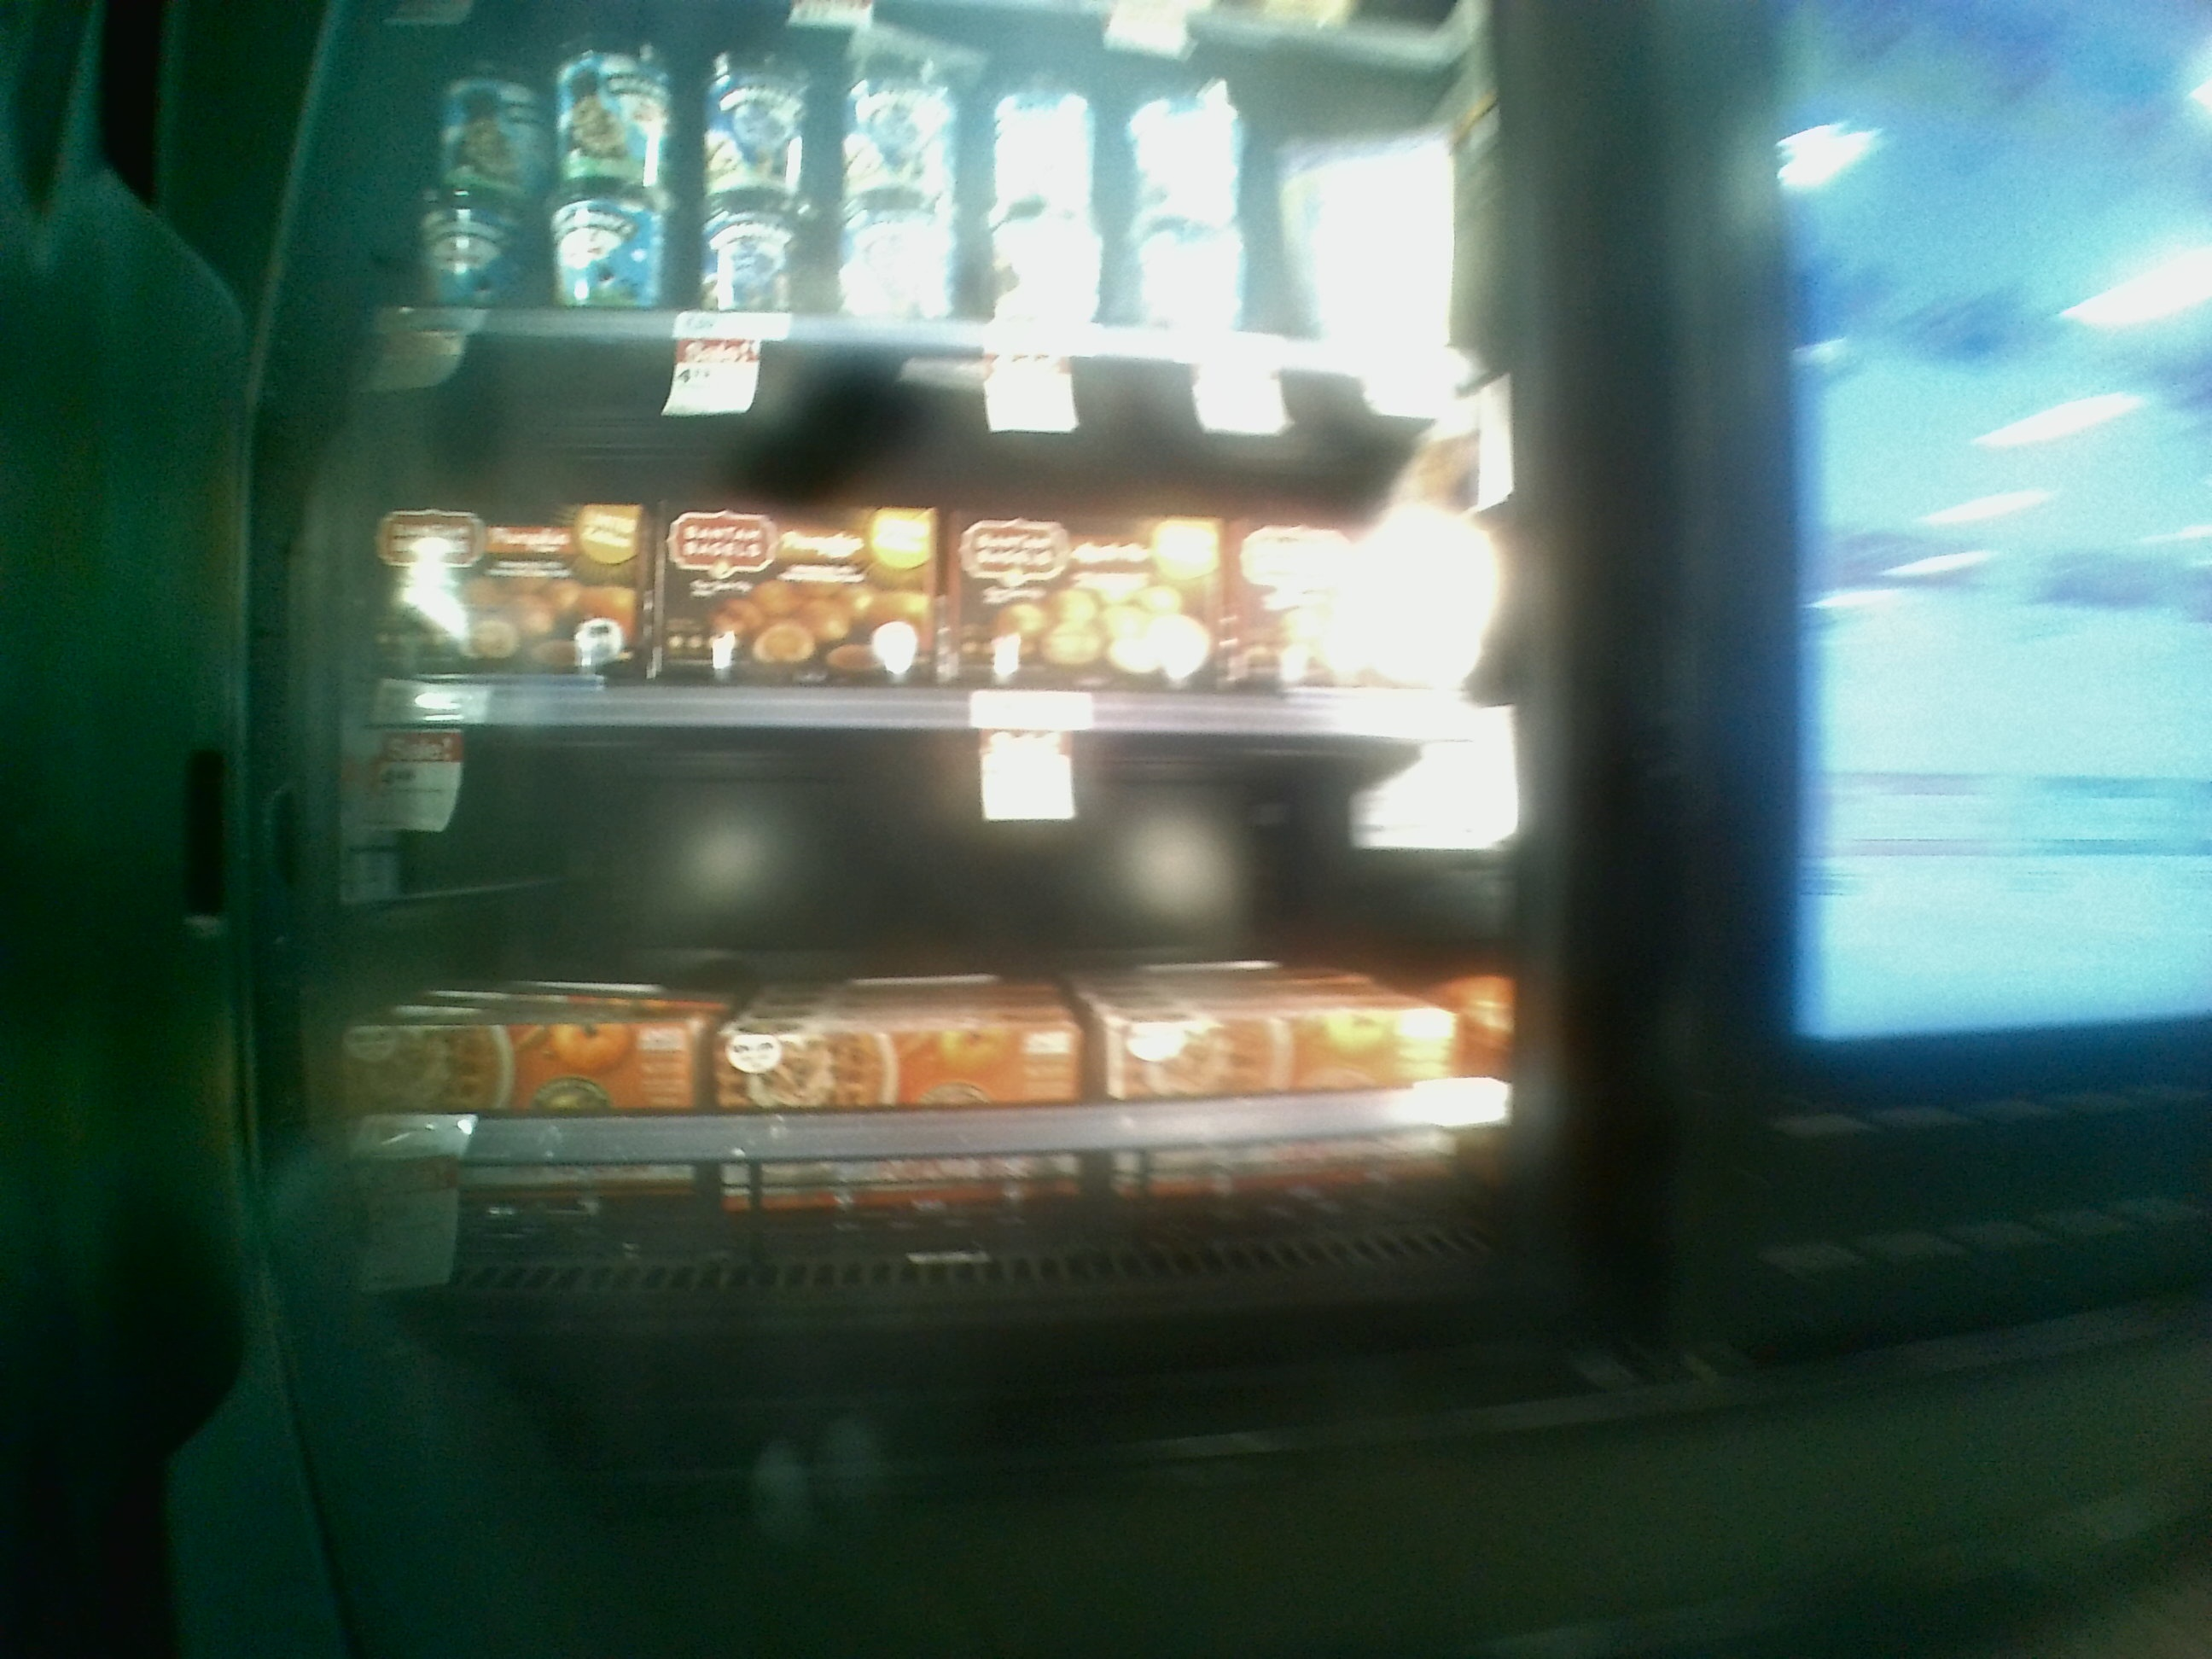shelf: (280, 688, 1564, 1331), (301, 310, 1536, 753)
